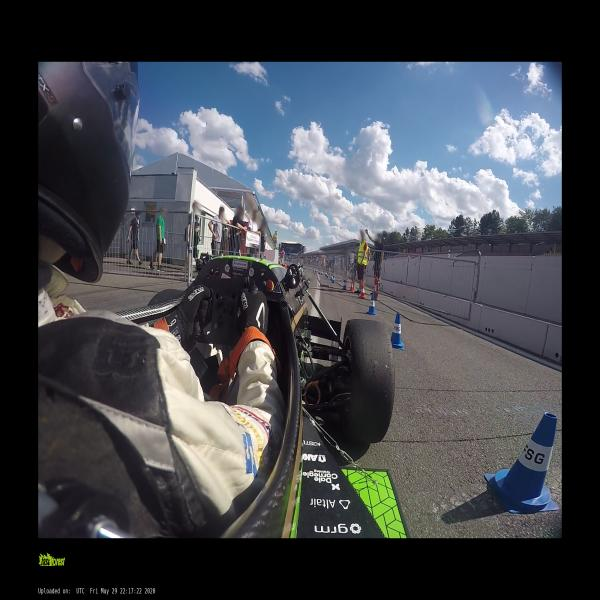blue_cone: (494, 411, 562, 514), (391, 313, 404, 348), (366, 295, 377, 315), (342, 280, 346, 290), (332, 275, 334, 284), (326, 272, 328, 278)
large_orange_cone: (360, 285, 366, 298), (350, 281, 354, 293)
